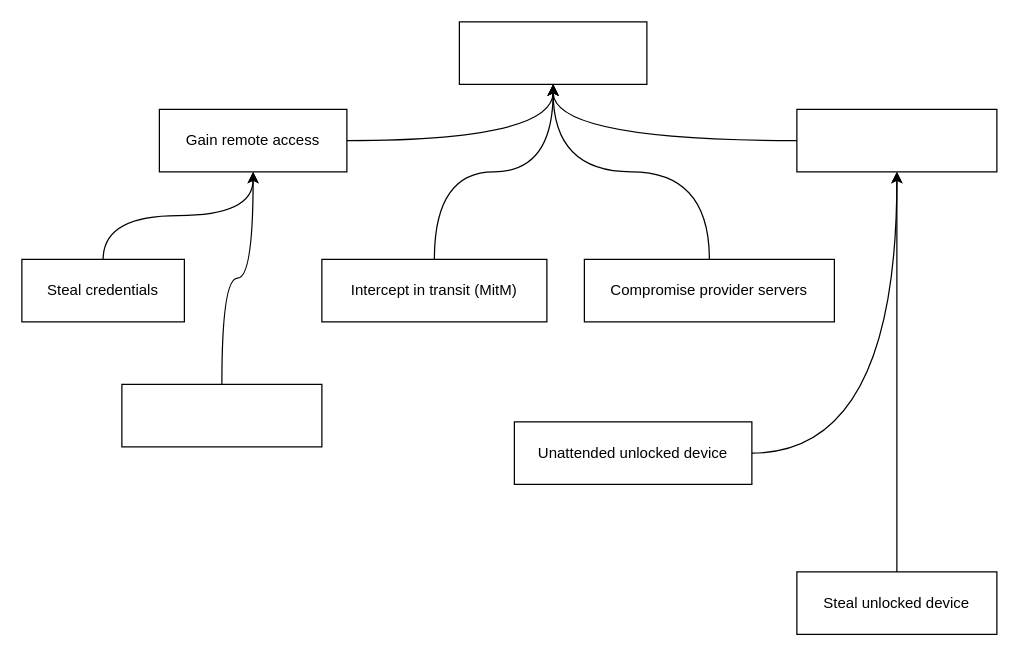
Some shapes in this 1019 by 656 pixel diagram are drawn without their labels. The shapes that lost their labels are listed below. From the top down, each one's centre as x and y in pixels, then its label:
At point 552,52: "Read target's e-mail".
At point 896,140: "Gain physical access".
At point 221,415: "Hijack session cookie".
